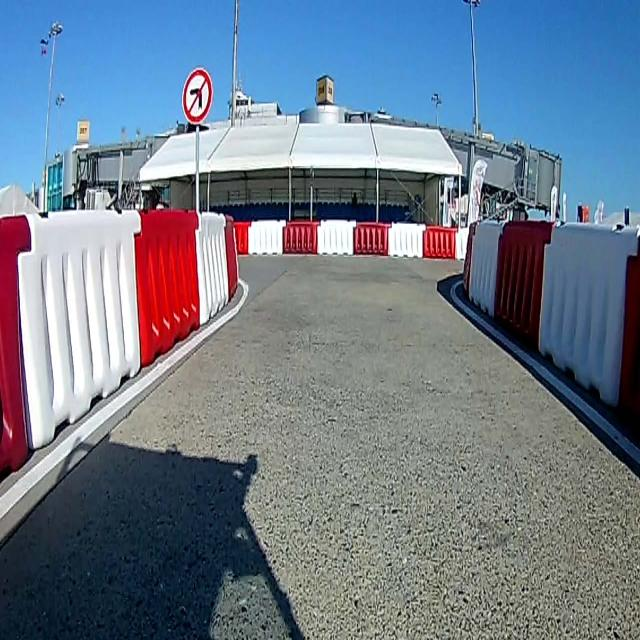soladonulmez: (183, 66, 214, 122)
